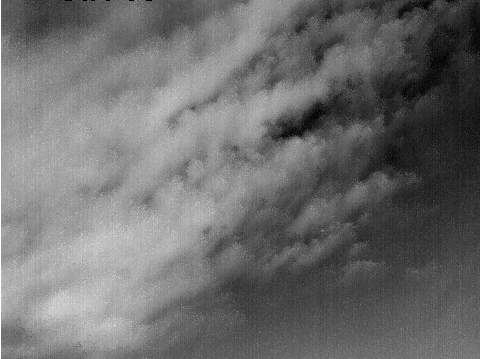dim target: (320, 228, 325, 233)
